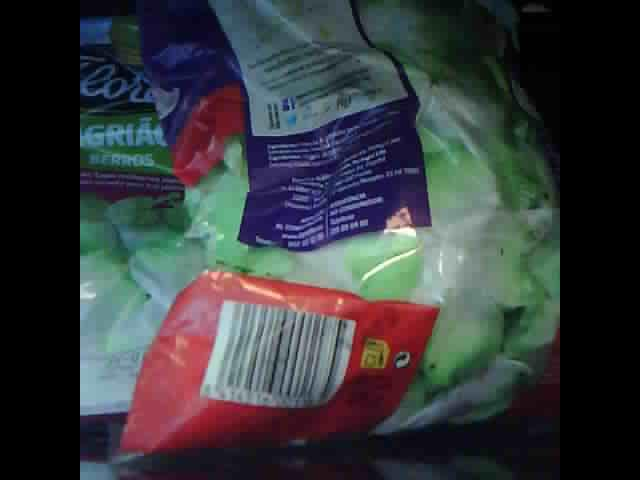florette: (111, 5, 558, 468), (82, 5, 236, 422)
